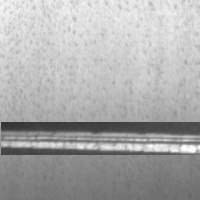pitted_surface: (1, 1, 199, 199)
scratches: (1, 122, 200, 155)
